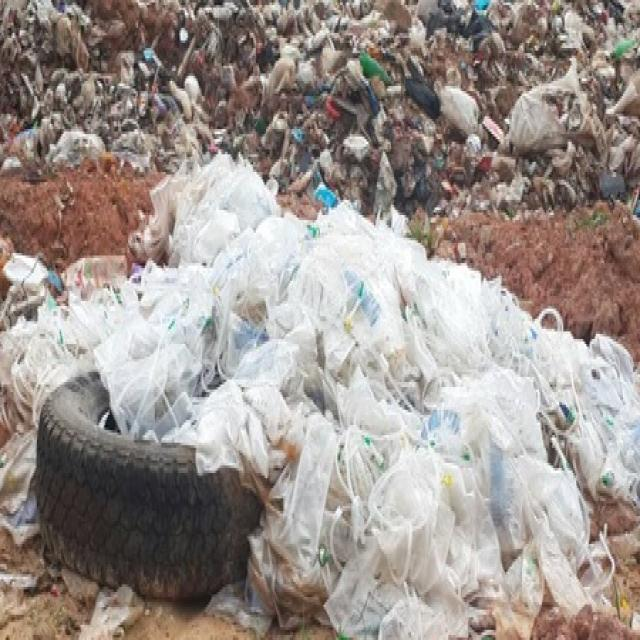-: (280, 0, 640, 212), (173, 278, 430, 520)
